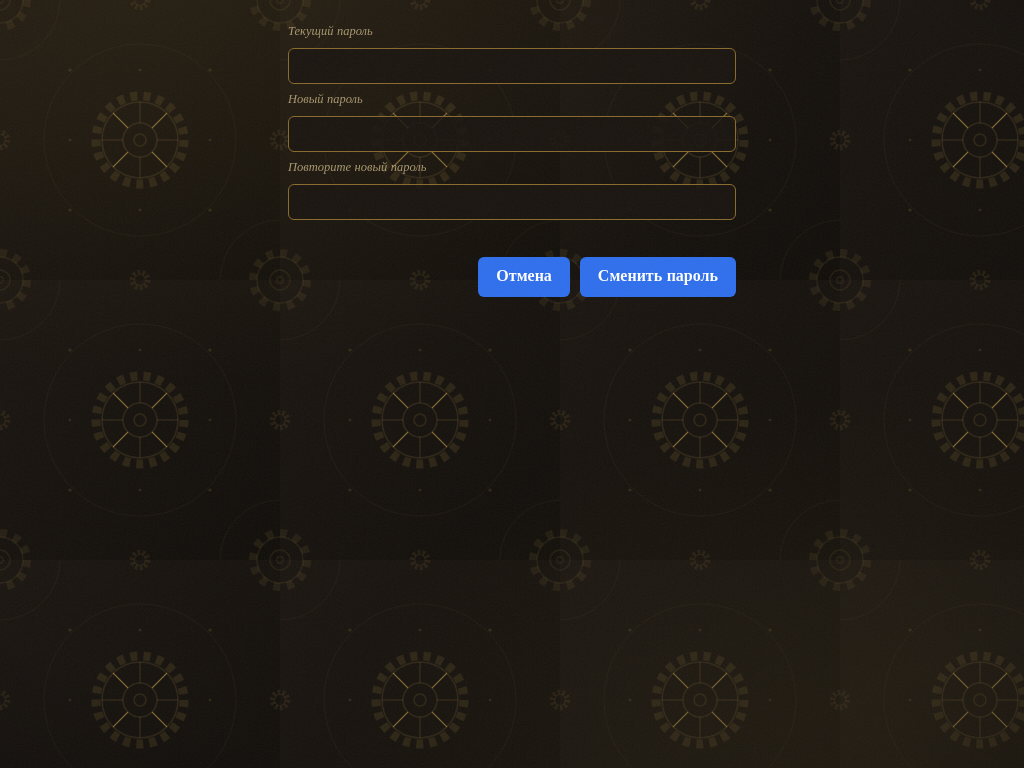
Test: PasswordChangeModal › client validation blocks submit for совпадение с username: no request, russian inline alert
The image size is (1024, 768).
Type "old-pass-123" into the password field labelled "Текущий пароль" at point(512, 66), box [288, 48, 736, 84]
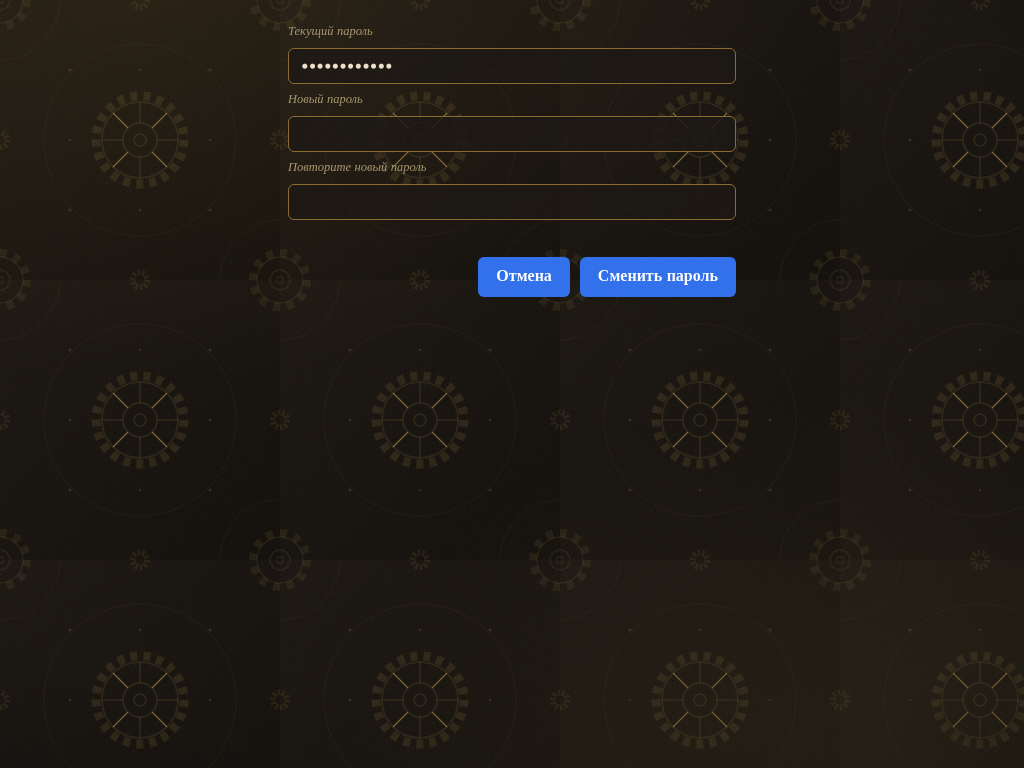
Type "hargrove" into the password field labelled "Новый пароль" at point(512, 134), box [288, 116, 736, 152]
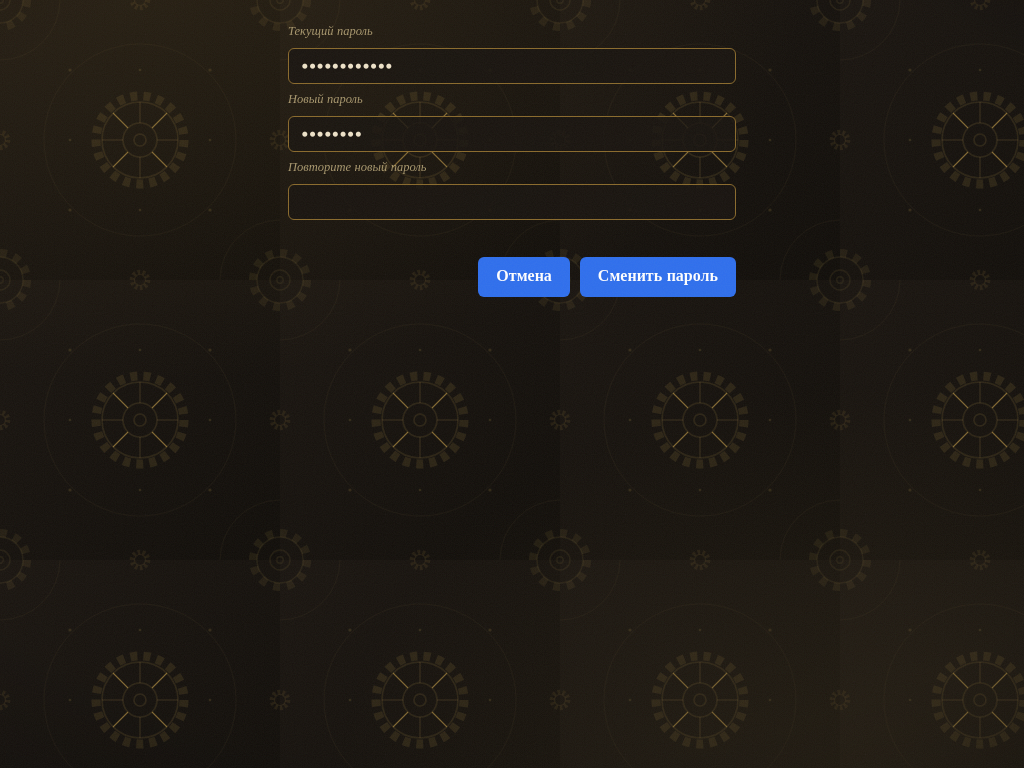
Type "hargrove" into the password field labelled "Повторите новый пароль" at point(512, 202), box [288, 184, 736, 220]
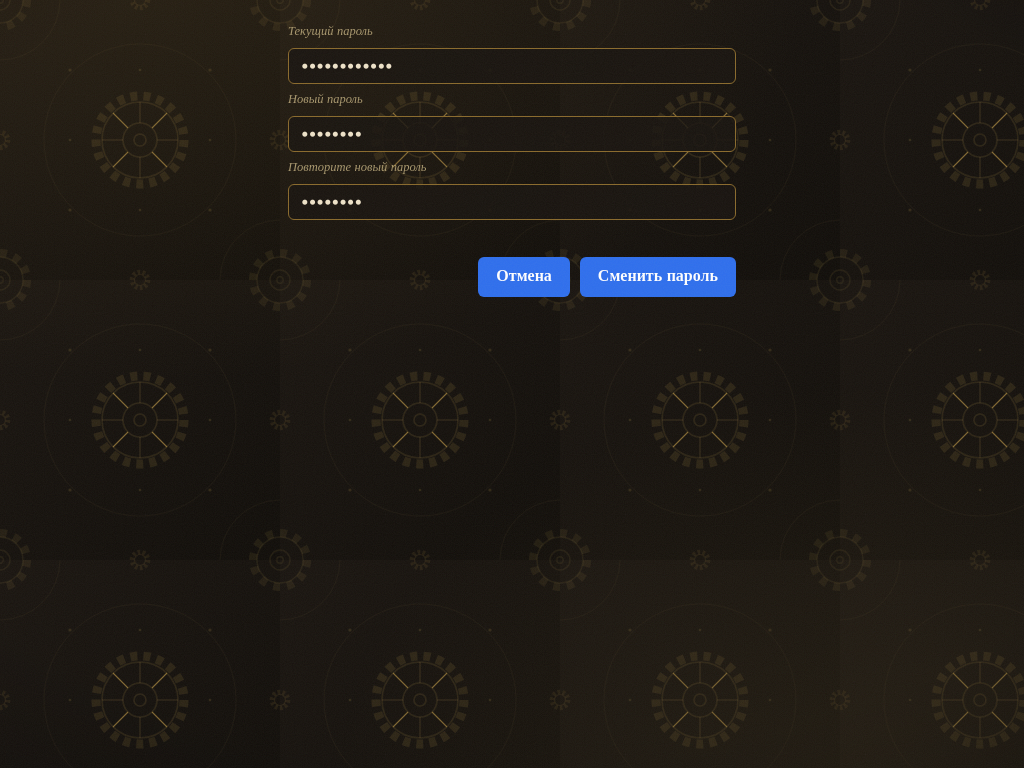
Click the button "Сменить пароль" at point(658, 277), box [580, 257, 736, 297]
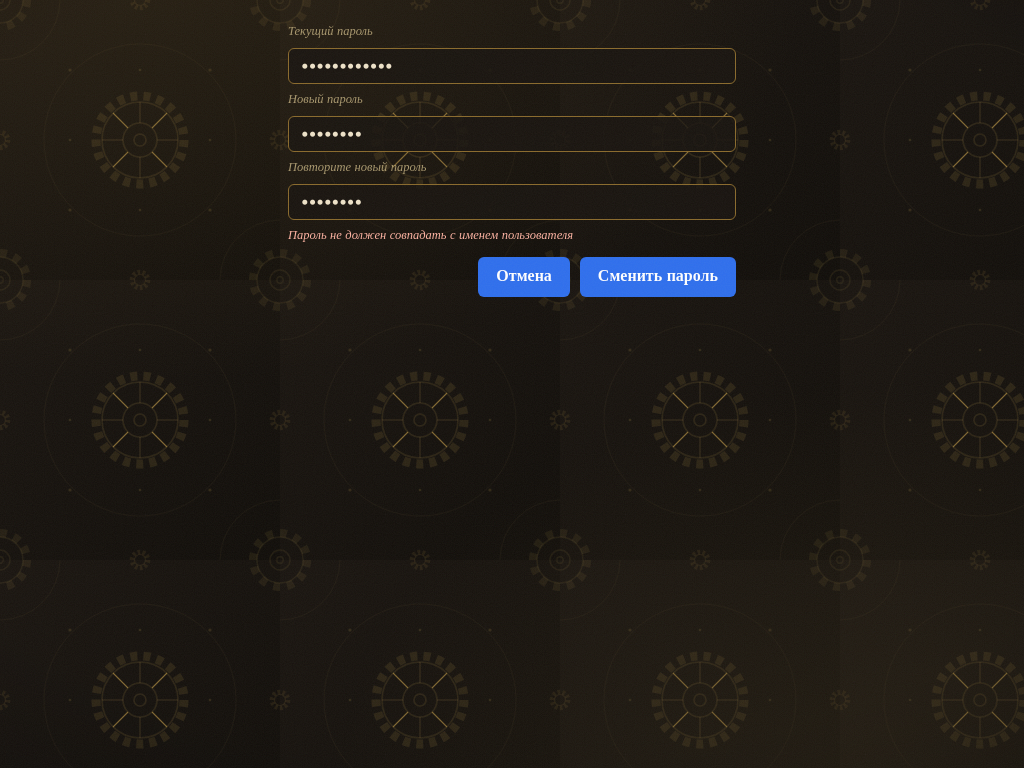
Expected: the message reads "Пароль не должен совпадать с именем пользователя", [288, 229, 573, 242]
